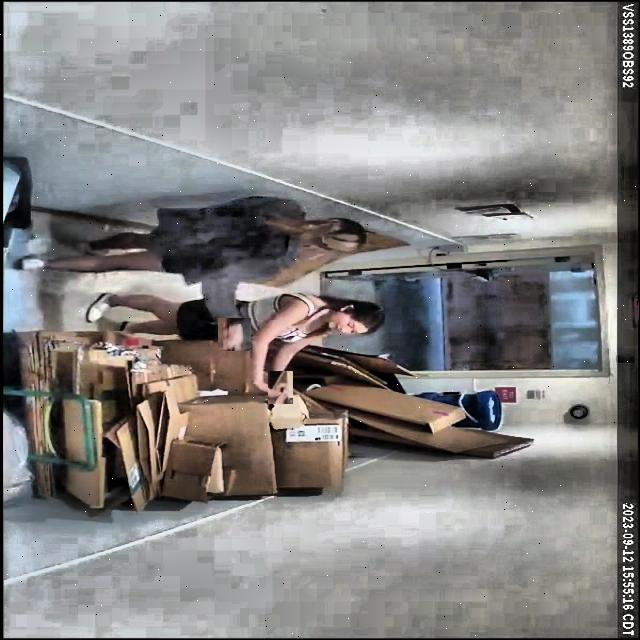not-gloved: (217, 318, 250, 352), (264, 373, 294, 402), (246, 373, 273, 402)
